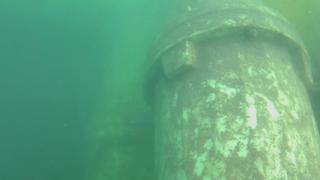pipe: (141, 1, 320, 179), (87, 24, 148, 180), (264, 1, 319, 62)
